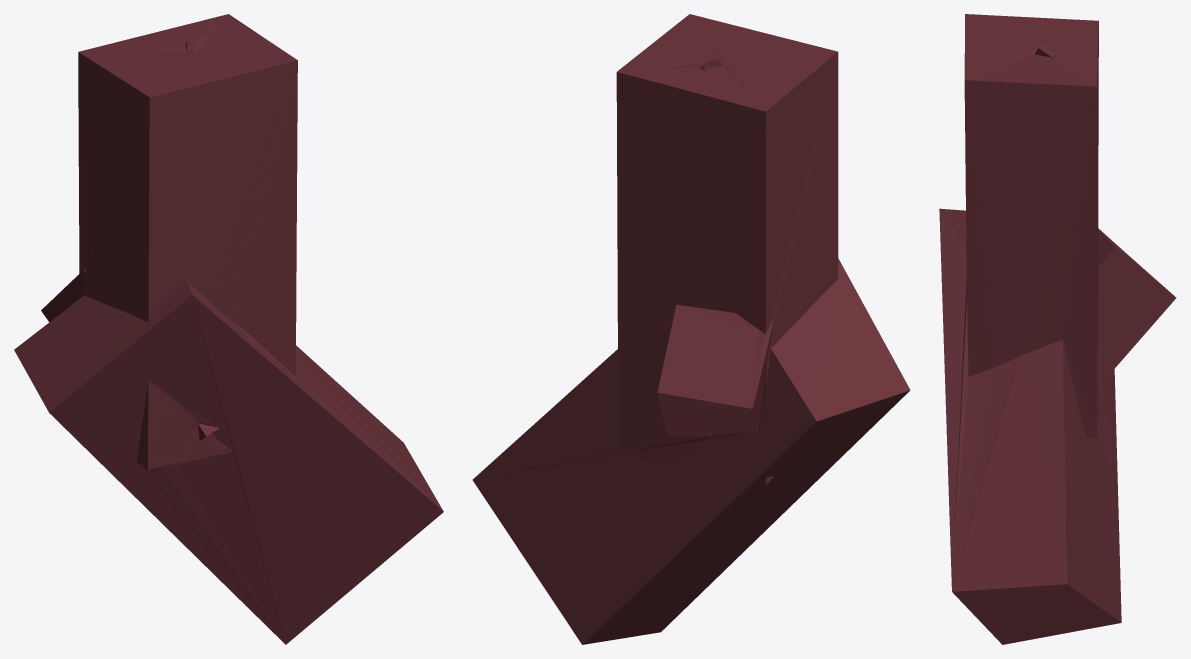
3 renders of one model, left to right at view 1: azimuth 30°, elevation 25°; view 2: azimuth 150°, elevation 25°; view 3: azimuth 270°, elevation 25°, orthographic. The views are drawn at different scales.
Parts seen in each view (by area): view 1: 768_Cube.3090; view 2: 768_Cube.3090; view 3: 768_Cube.3090.
Part boxes in pixels (box(x1,y1,x2,y2)): 768_Cube.3090: box(14, 14, 443, 644); 768_Cube.3090: box(472, 14, 910, 644); 768_Cube.3090: box(939, 14, 1176, 644).
Size of the model in its own units: 13.25 by 19.41 by 7.39.
